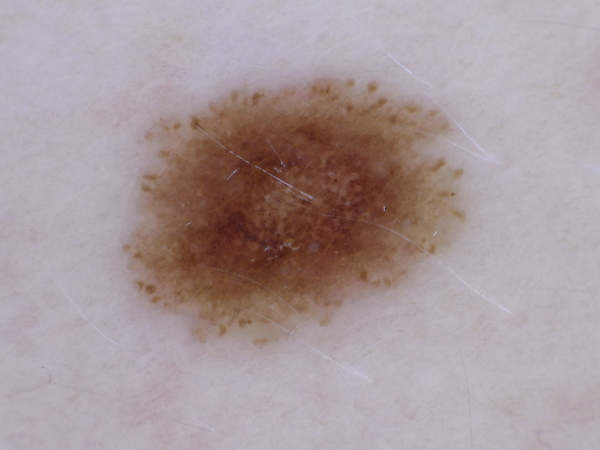Detected Lesion: (116, 69, 474, 350)
